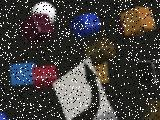Left: (52, 57, 111, 120)
